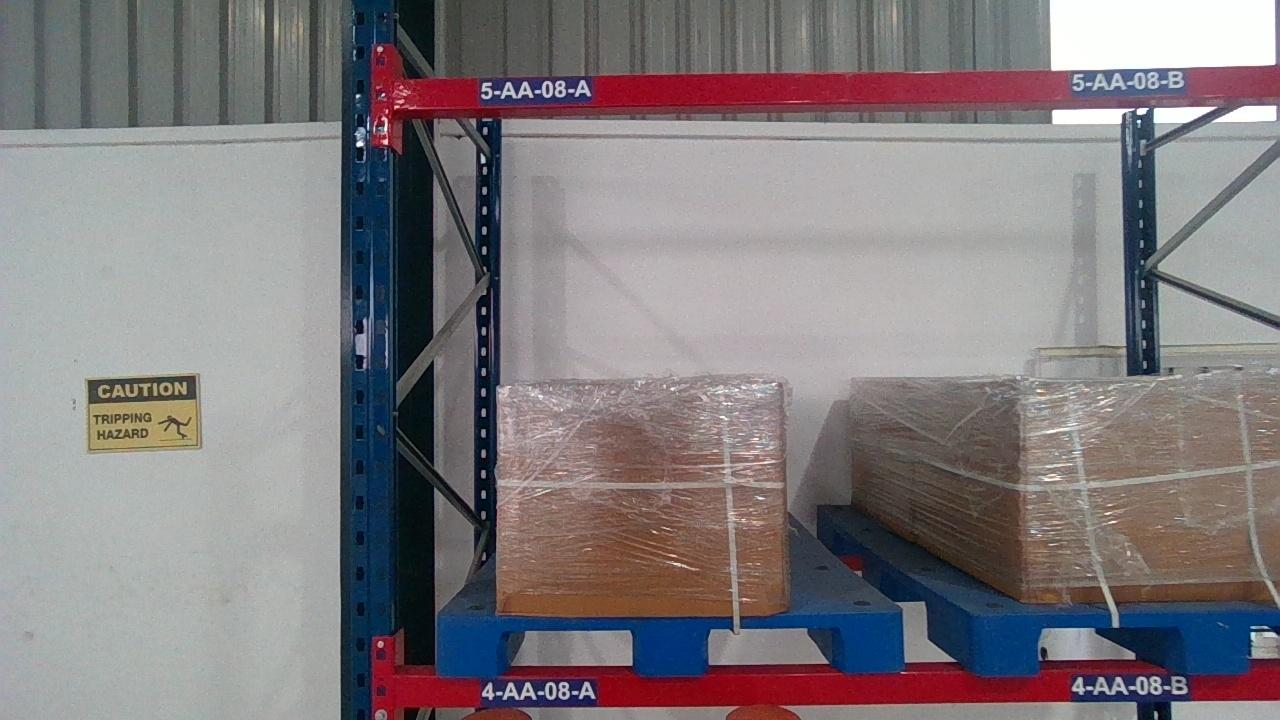h_rack: (396, 67, 1279, 110), (395, 666, 1278, 705)
small_pallet: (431, 614, 908, 672), (976, 612, 1279, 670)
